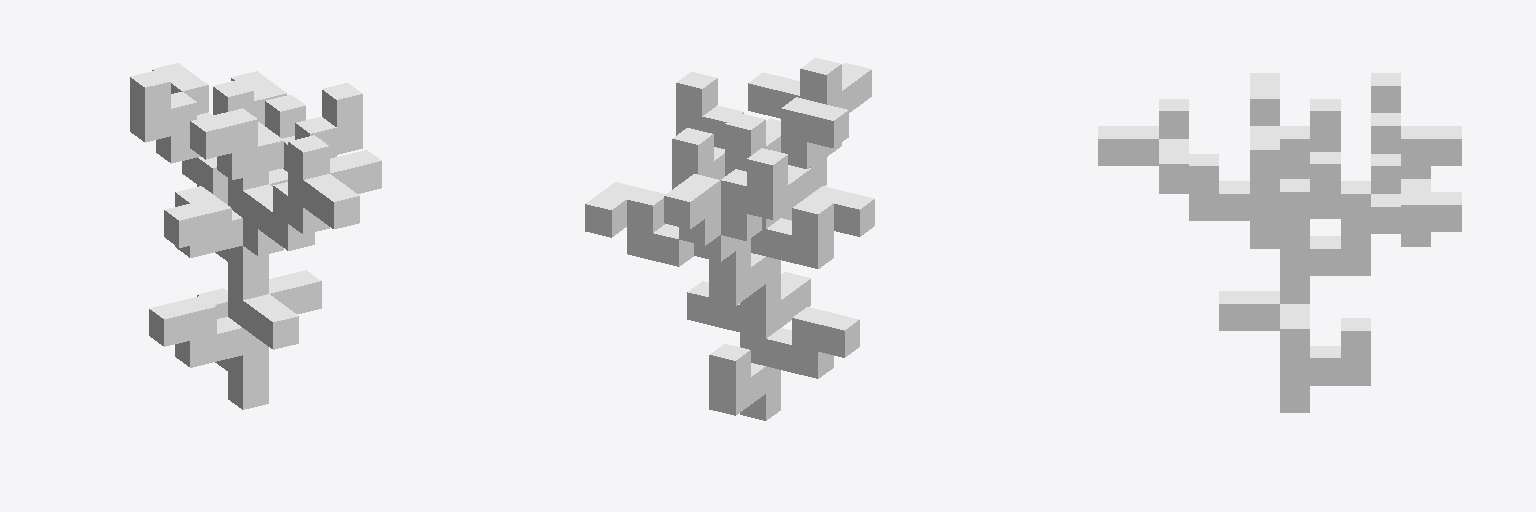
File: Twigs.obj
3 views of the same model, side by side, from view 1: azimuth 30°, elevation 25°; view 2: azimuth 150°, elevation 25°; view 3: azimuth 270°, elevation 25° (orthographic).
Visible parts, largest first — view 1: object 1; view 2: object 1; view 3: object 1.
Boxes of the visible parts, x1,y1,x2,y2 form: object 1: [130, 63, 381, 409]; object 1: [585, 58, 874, 420]; object 1: [1098, 73, 1461, 412].
Bounding box in the file's own units: 0.7 × 1.1 × 1.2.